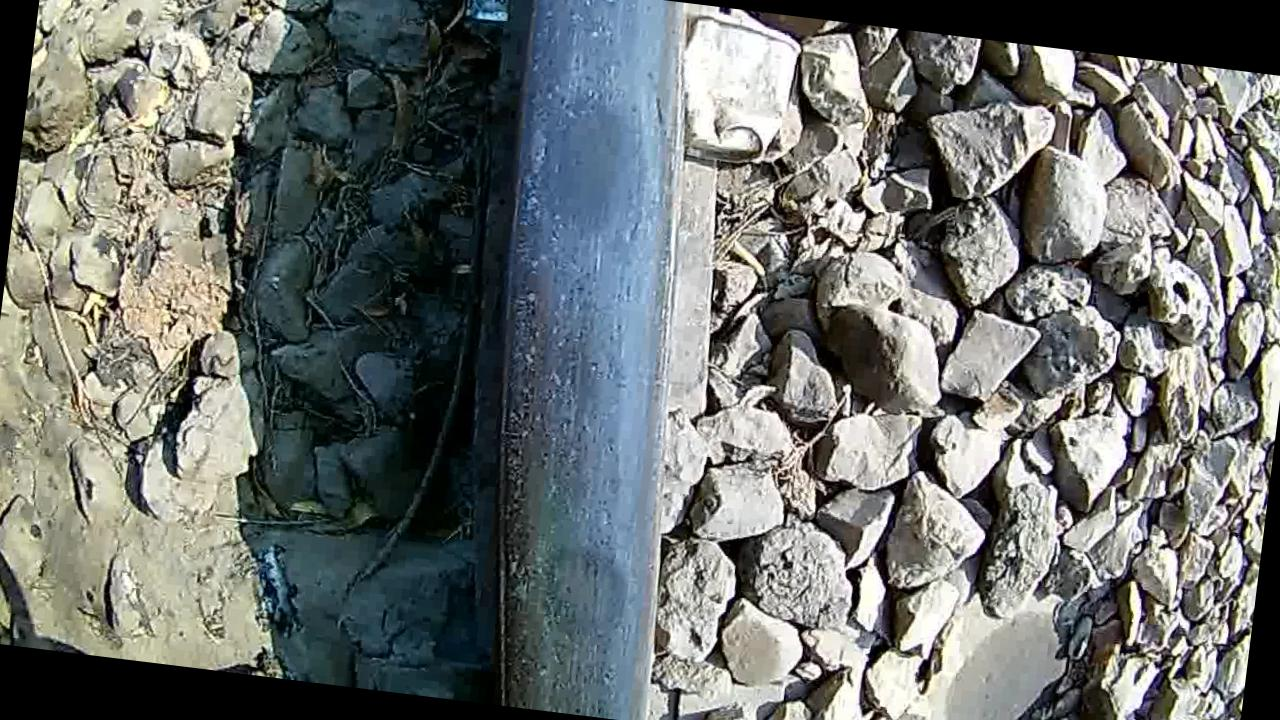bolt_missing: (438, 34, 698, 720)
